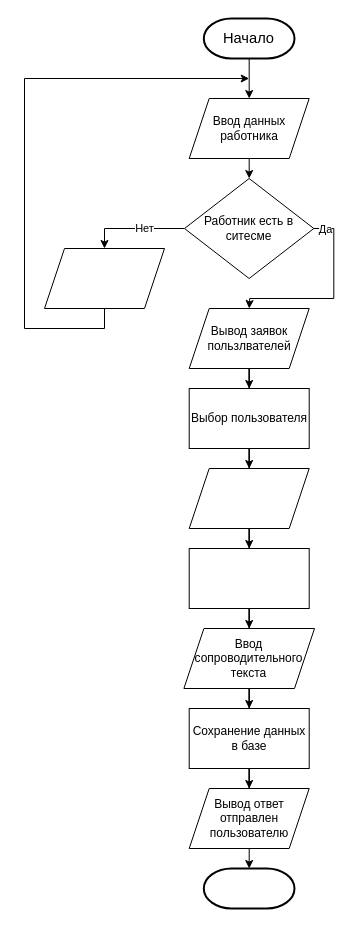
The diagram is 360 pixels wide and 926 high, and some of its shapes have lost their labels. Here are the shapes that lost their labels. From the top down, the centre of each, then its label:
pixel 104 278: Работник не найден в системе
pixel 248 498: Вывод данных заявки пользователя
pixel 248 578: Выбор возможных туров
pixel 248 888: Конец
